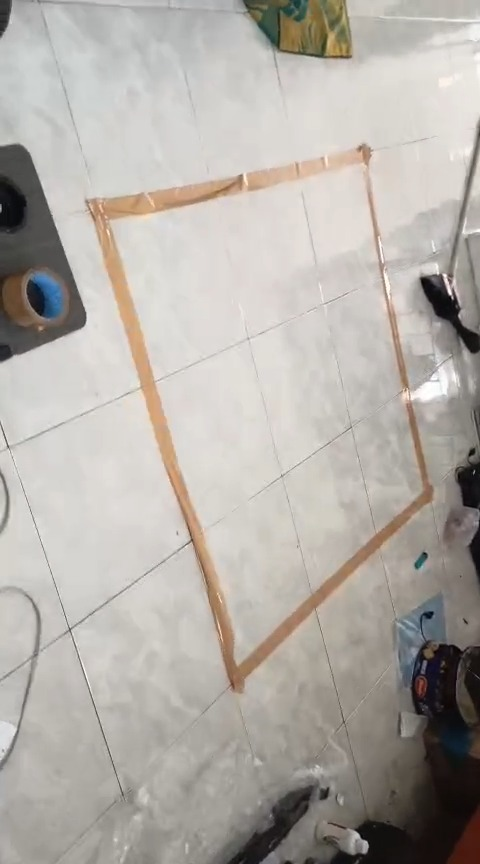floor marking: (88, 144, 432, 691)
